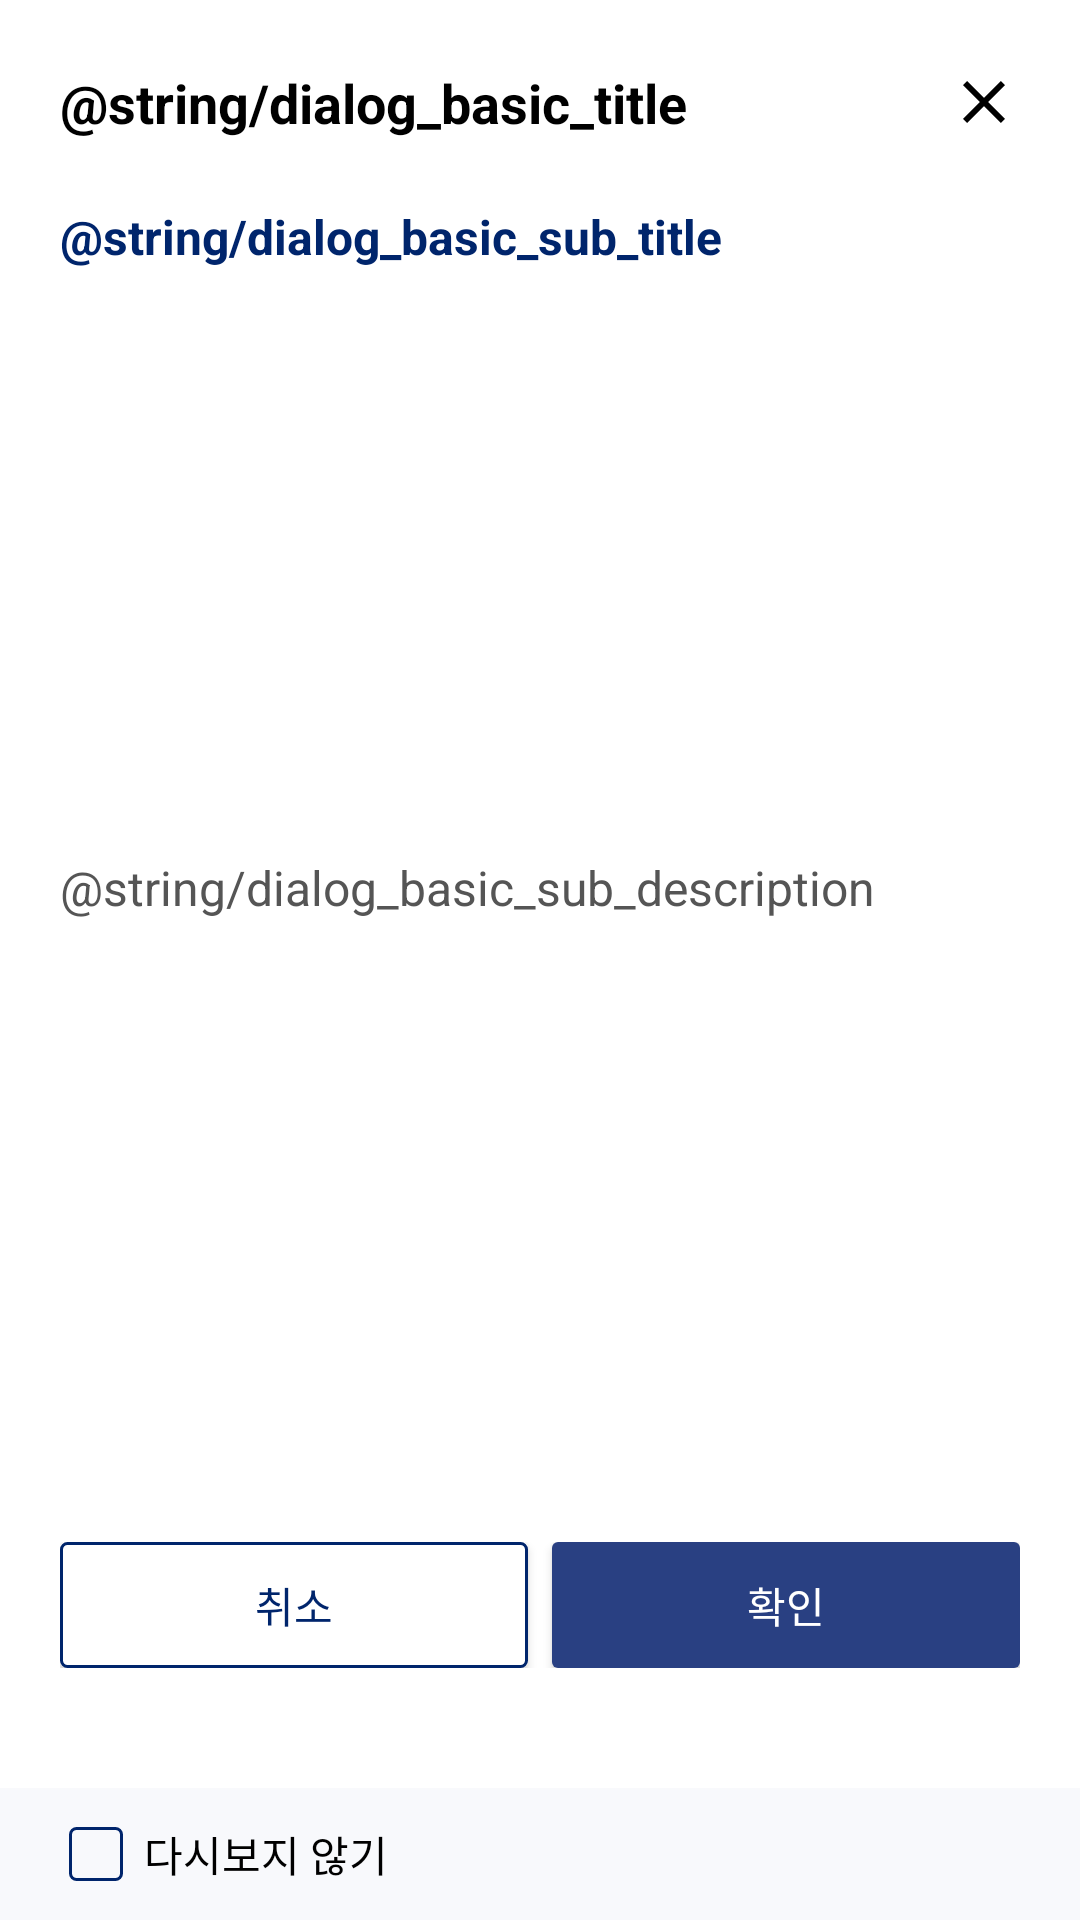

Where to tap for icons on this 1080px x 1920px app screen, as [x,y]:
닫기: [984,102]
